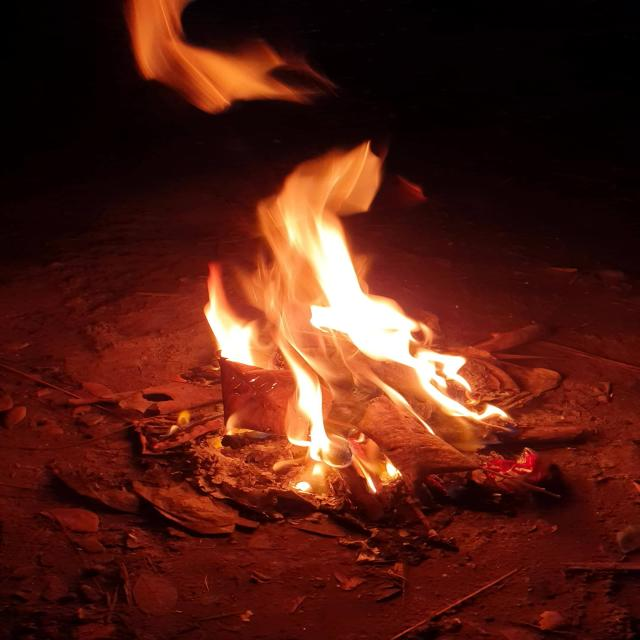fire: (205, 141, 514, 491), (128, 0, 333, 112)
